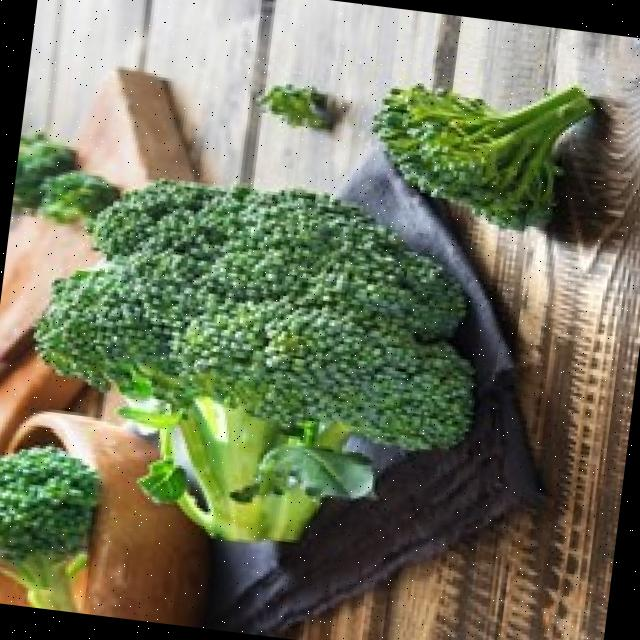Broccoli: (36, 179, 473, 448), (36, 179, 473, 447), (373, 84, 595, 229), (373, 85, 594, 229), (0, 446, 99, 560), (0, 446, 98, 560), (39, 169, 119, 222)
